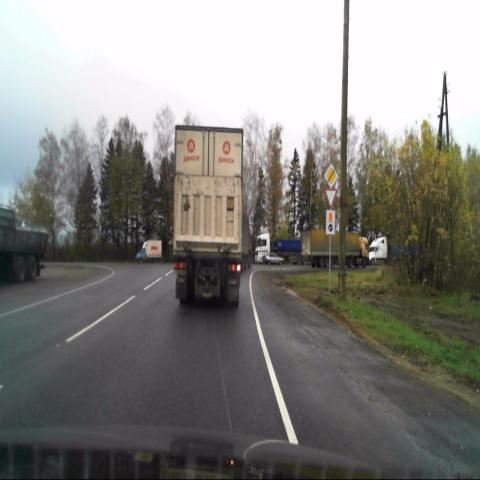2_2: (324, 164, 338, 189)
